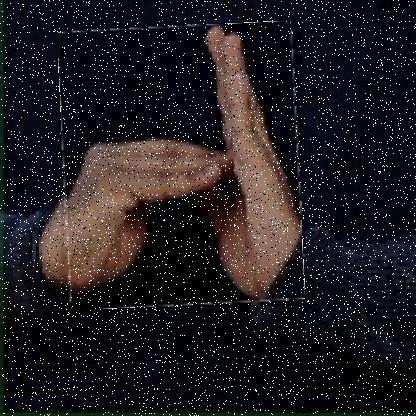Z: (60, 24, 302, 308)
